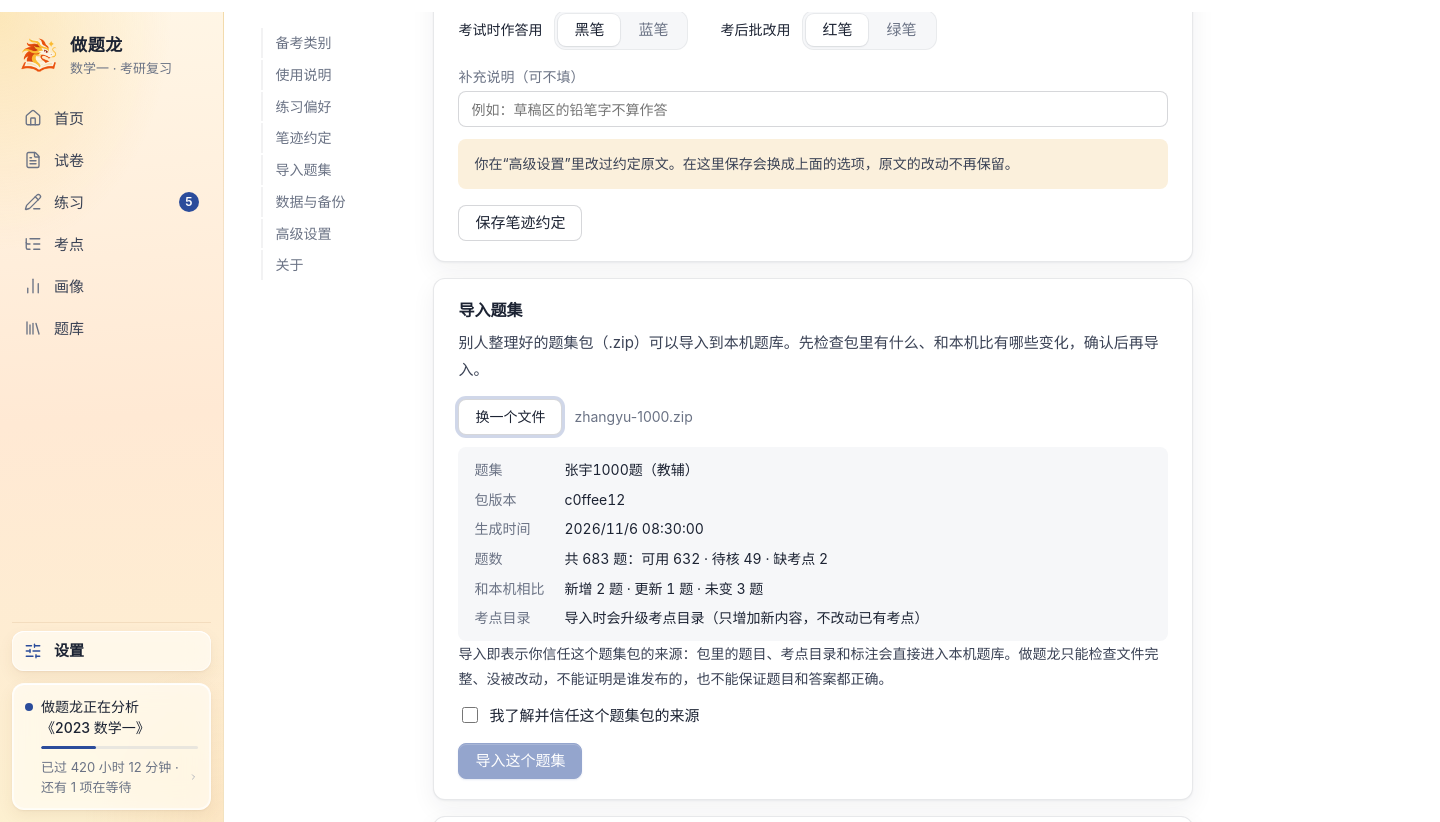
Test: imports once, blocks repeated clicks during the long request and shows the backup
Earlier steps of the test are not shown.
(page scrolled)
Expected: the button "导入这个题集" is disabled, [458, 743, 582, 779]
What coordinates should you click on to do the following:
click the checkbox labelled "我了解并信任这个题集包的来源"
I would click on:
 (470, 715)
Its box is [462, 707, 478, 723].
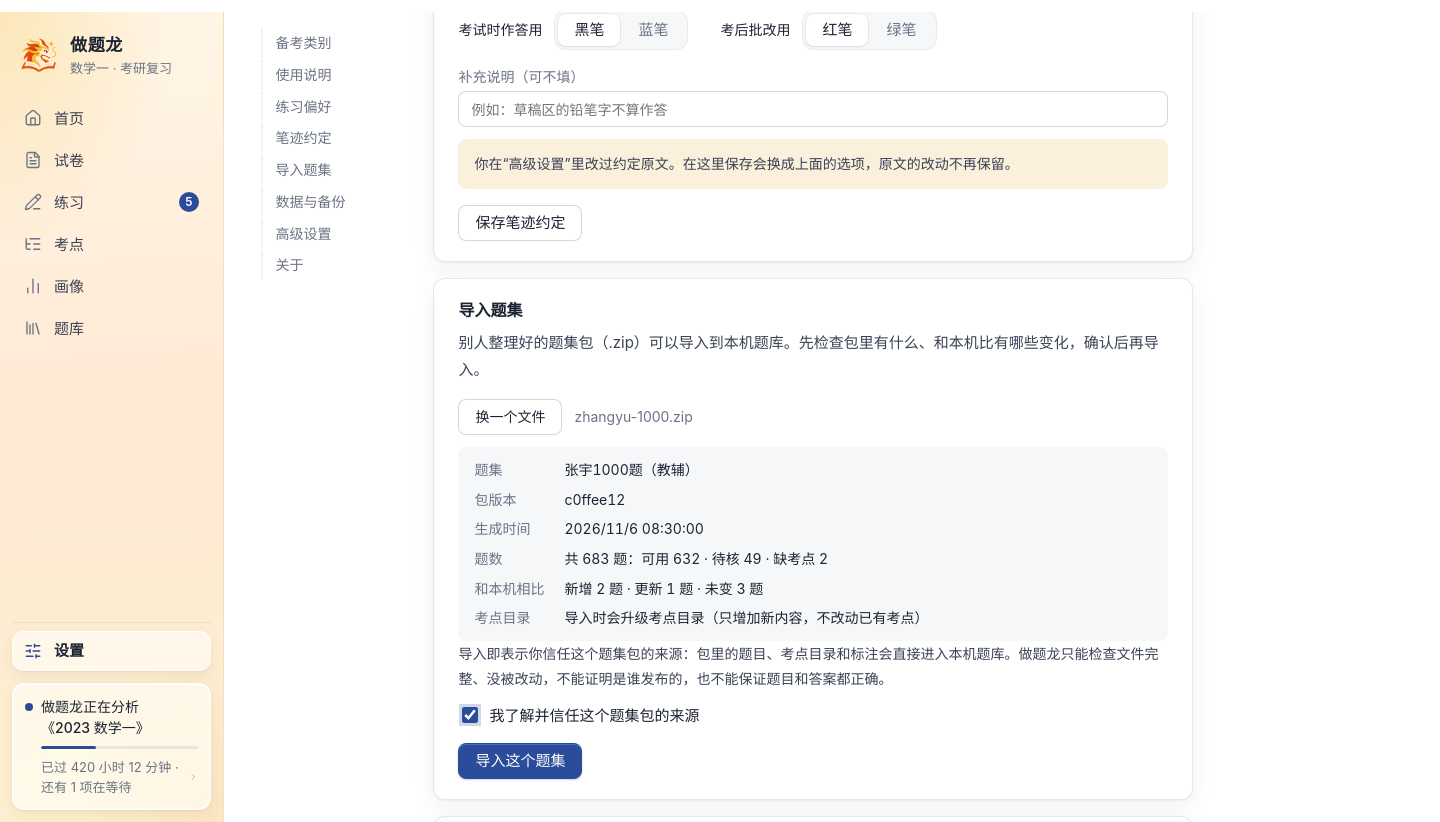
What coordinates should you click on to do the following:
click the button "导入这个题集"
I would click on:
 (520, 761)
Its box is [458, 743, 582, 779].
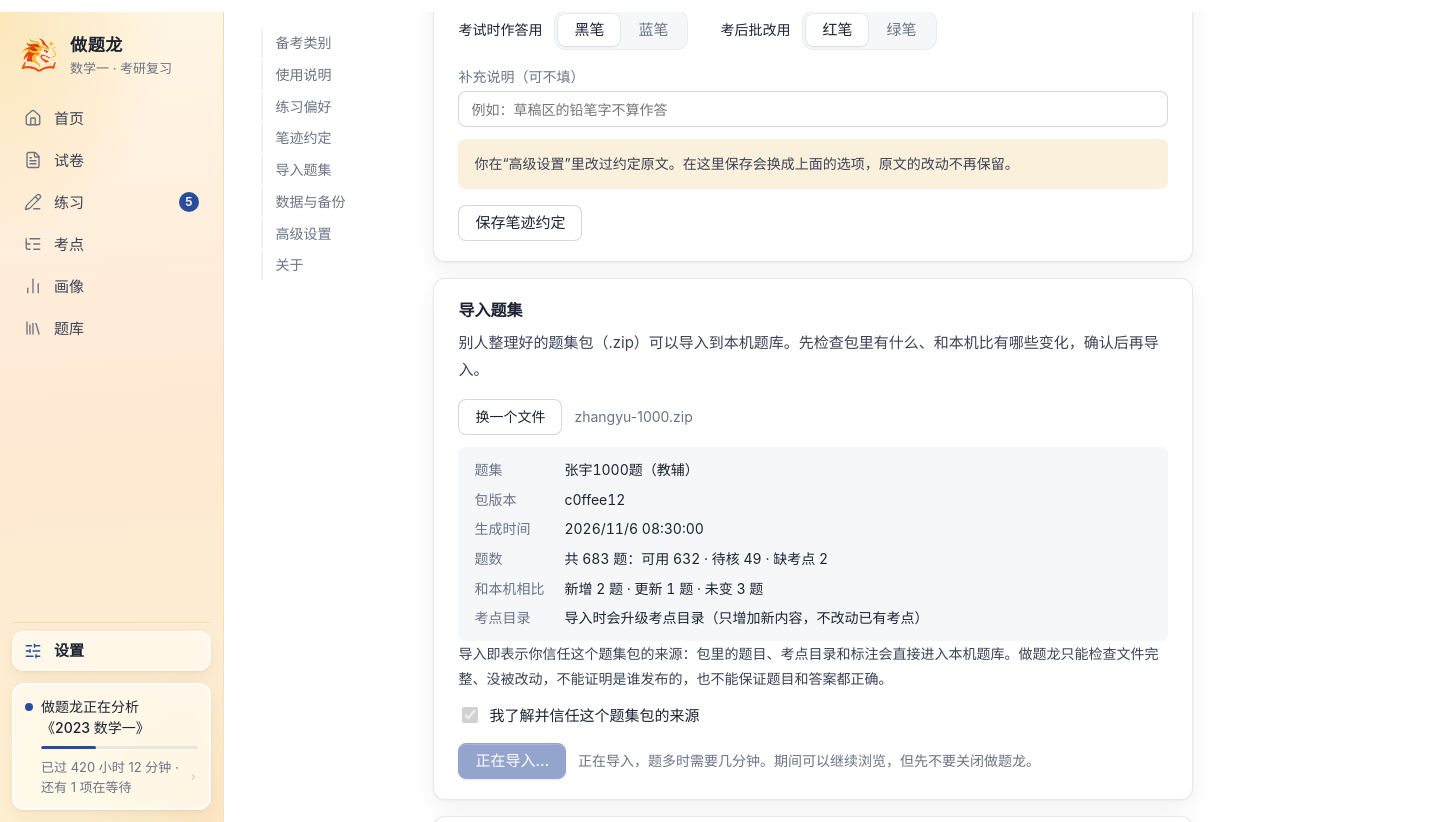
Now the button "正在导入…" is disabled
Now the text "正在导入，题多时需要几分钟。期间可以继续浏览，但先不要关闭做题龙。" is shown, box [578, 750, 1040, 772]
What coordinates should you click on to do the following:
click the button "正在导入…"
I would click on:
 (512, 761)
Its box is [458, 743, 566, 779].
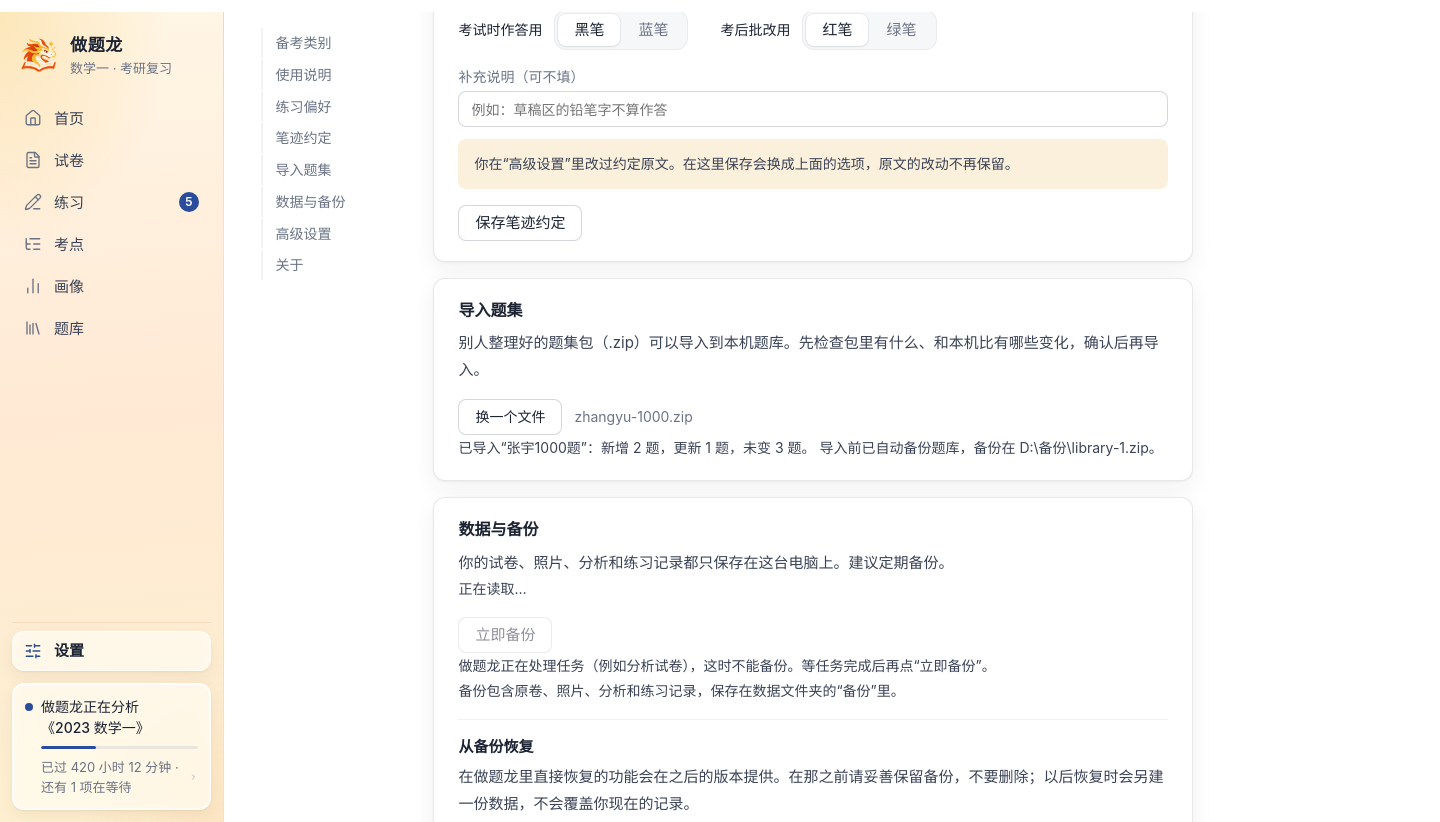
Now the text "已导入“张宇1000题”：新增 2 题，更新 1 题，未变 3 题。 导入前已自动备份题库，备份在 D:\\备份\\library-1.zip。" is shown, box [458, 435, 1168, 460]
